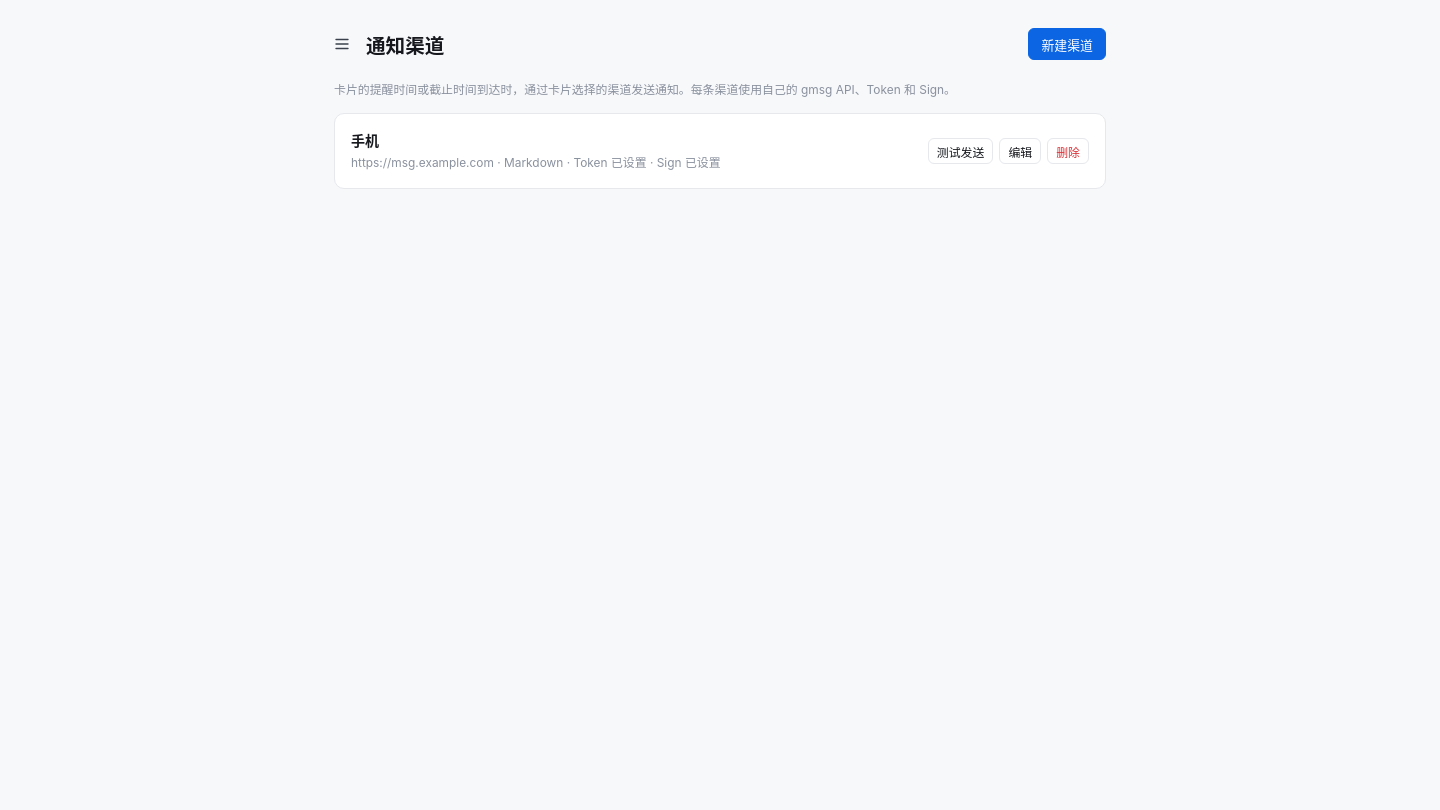
Test: ChannelsPage › 编辑渠道时 Token 和 Sign 留空表示保留原值
Click the button "编辑".
click(1020, 151)  # box [999,138,1041,164]
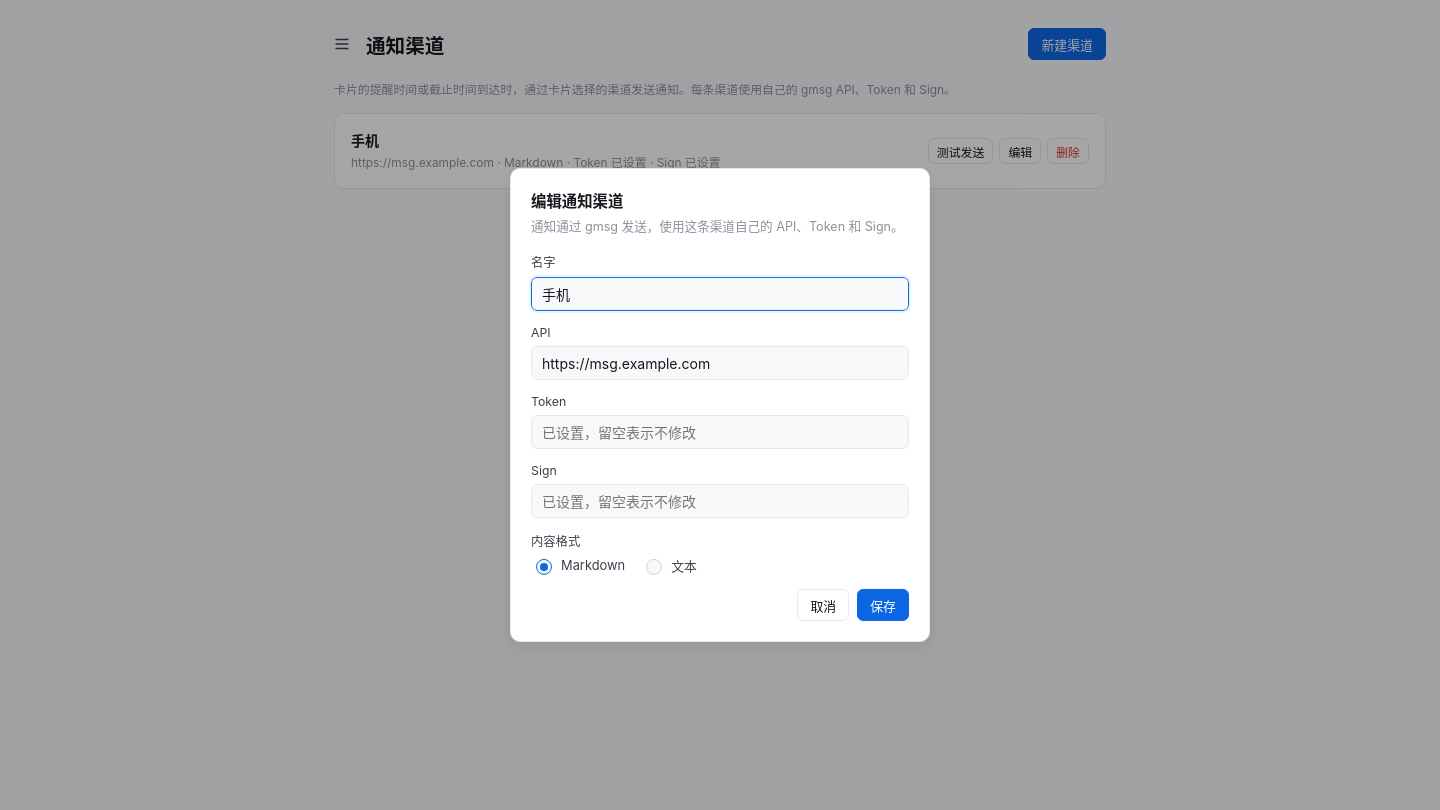
Replace the text in the field labelled "名字" with "电脑" at (720, 294), box [531,277,909,311]
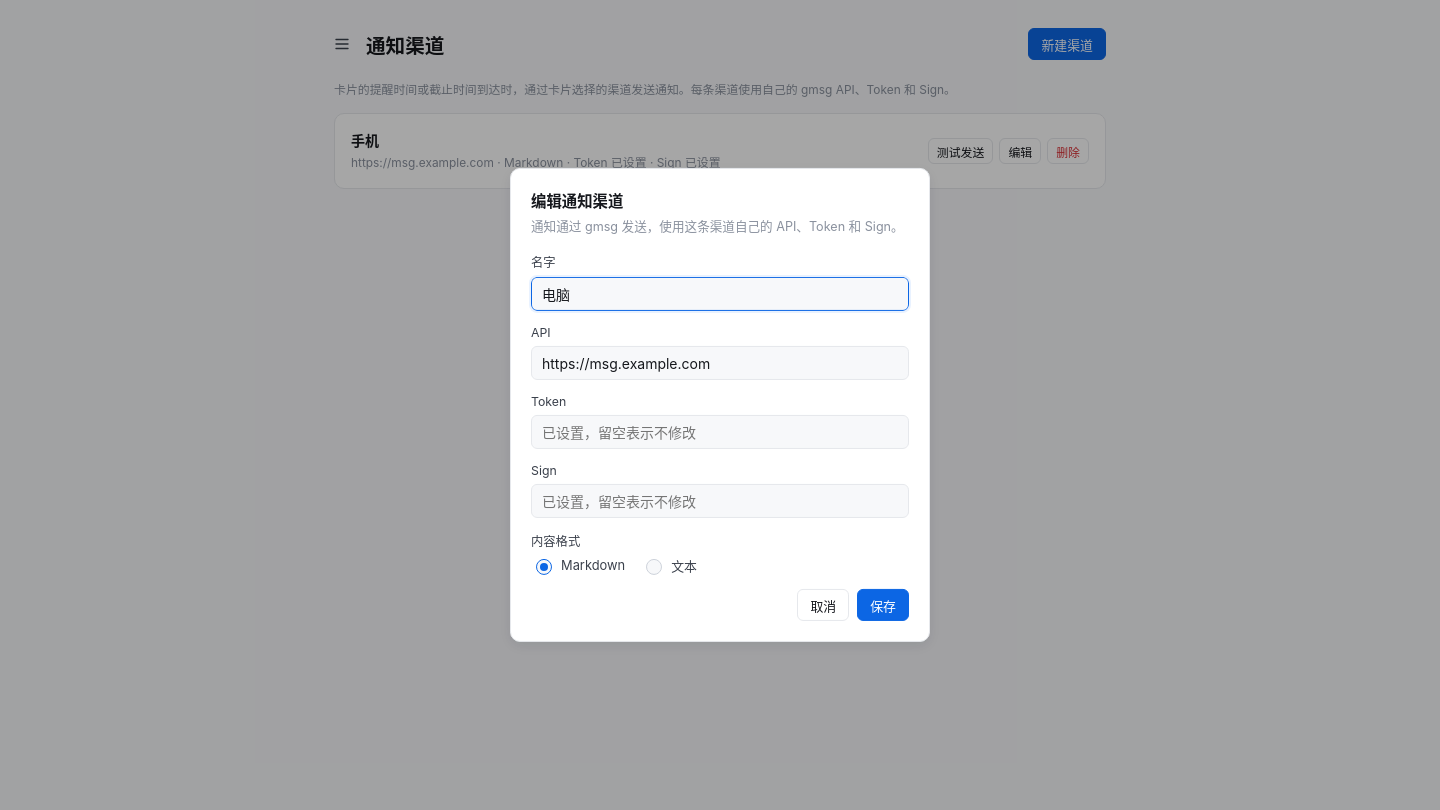
Click the button "保存".
click(883, 605)  # box [857,589,909,621]
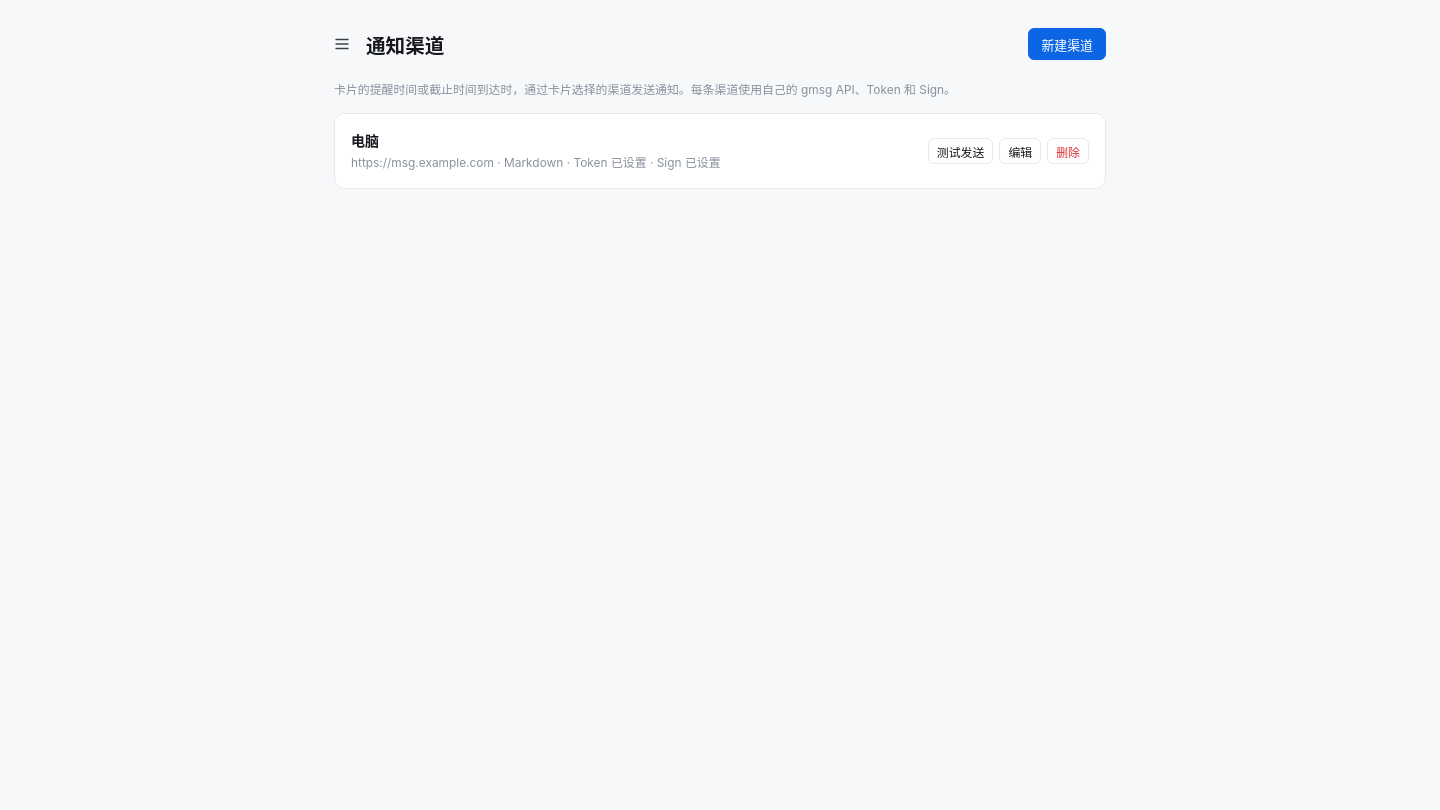
Now the text "电脑" is shown, box [351,132,379,149]
